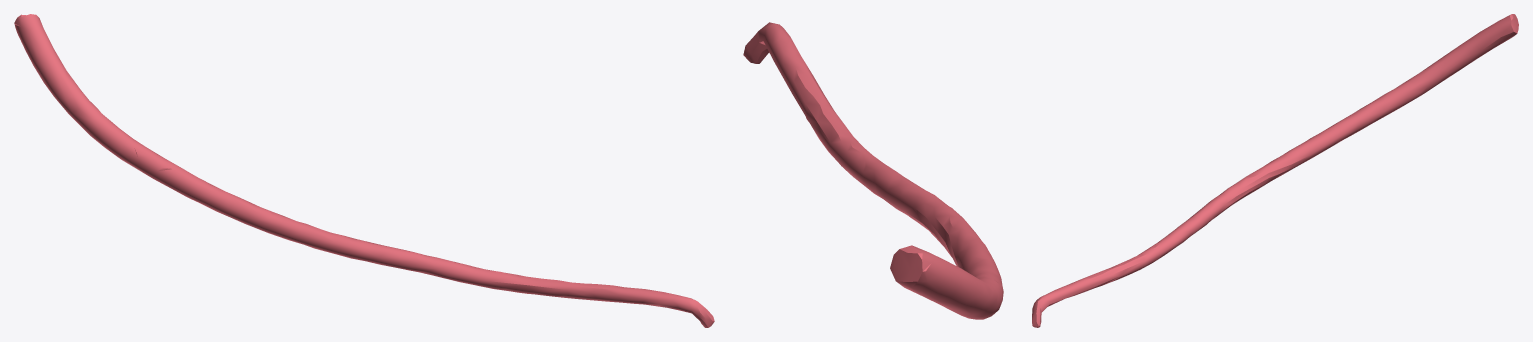
The model's file is fma79742_mm430.glb.
The picture shows the model from 3 angles, left to right: view 1: azimuth 30°, elevation 25°; view 2: azimuth 150°, elevation 25°; view 3: azimuth 270°, elevation 25°; orthographic projection. The views are drawn at different scales.
Visible parts, largest first — view 1: FMA79742_MM430; view 2: FMA79742_MM430; view 3: FMA79742_MM430.
Boxes of the visible parts, <box> form: FMA79742_MM430: <box>14,14,714,327</box>; FMA79742_MM430: <box>743,22,1003,319</box>; FMA79742_MM430: <box>1032,14,1518,327</box>.
Bounding box in the file's own units: 0.0333 × 0.0153 × 0.0426.
